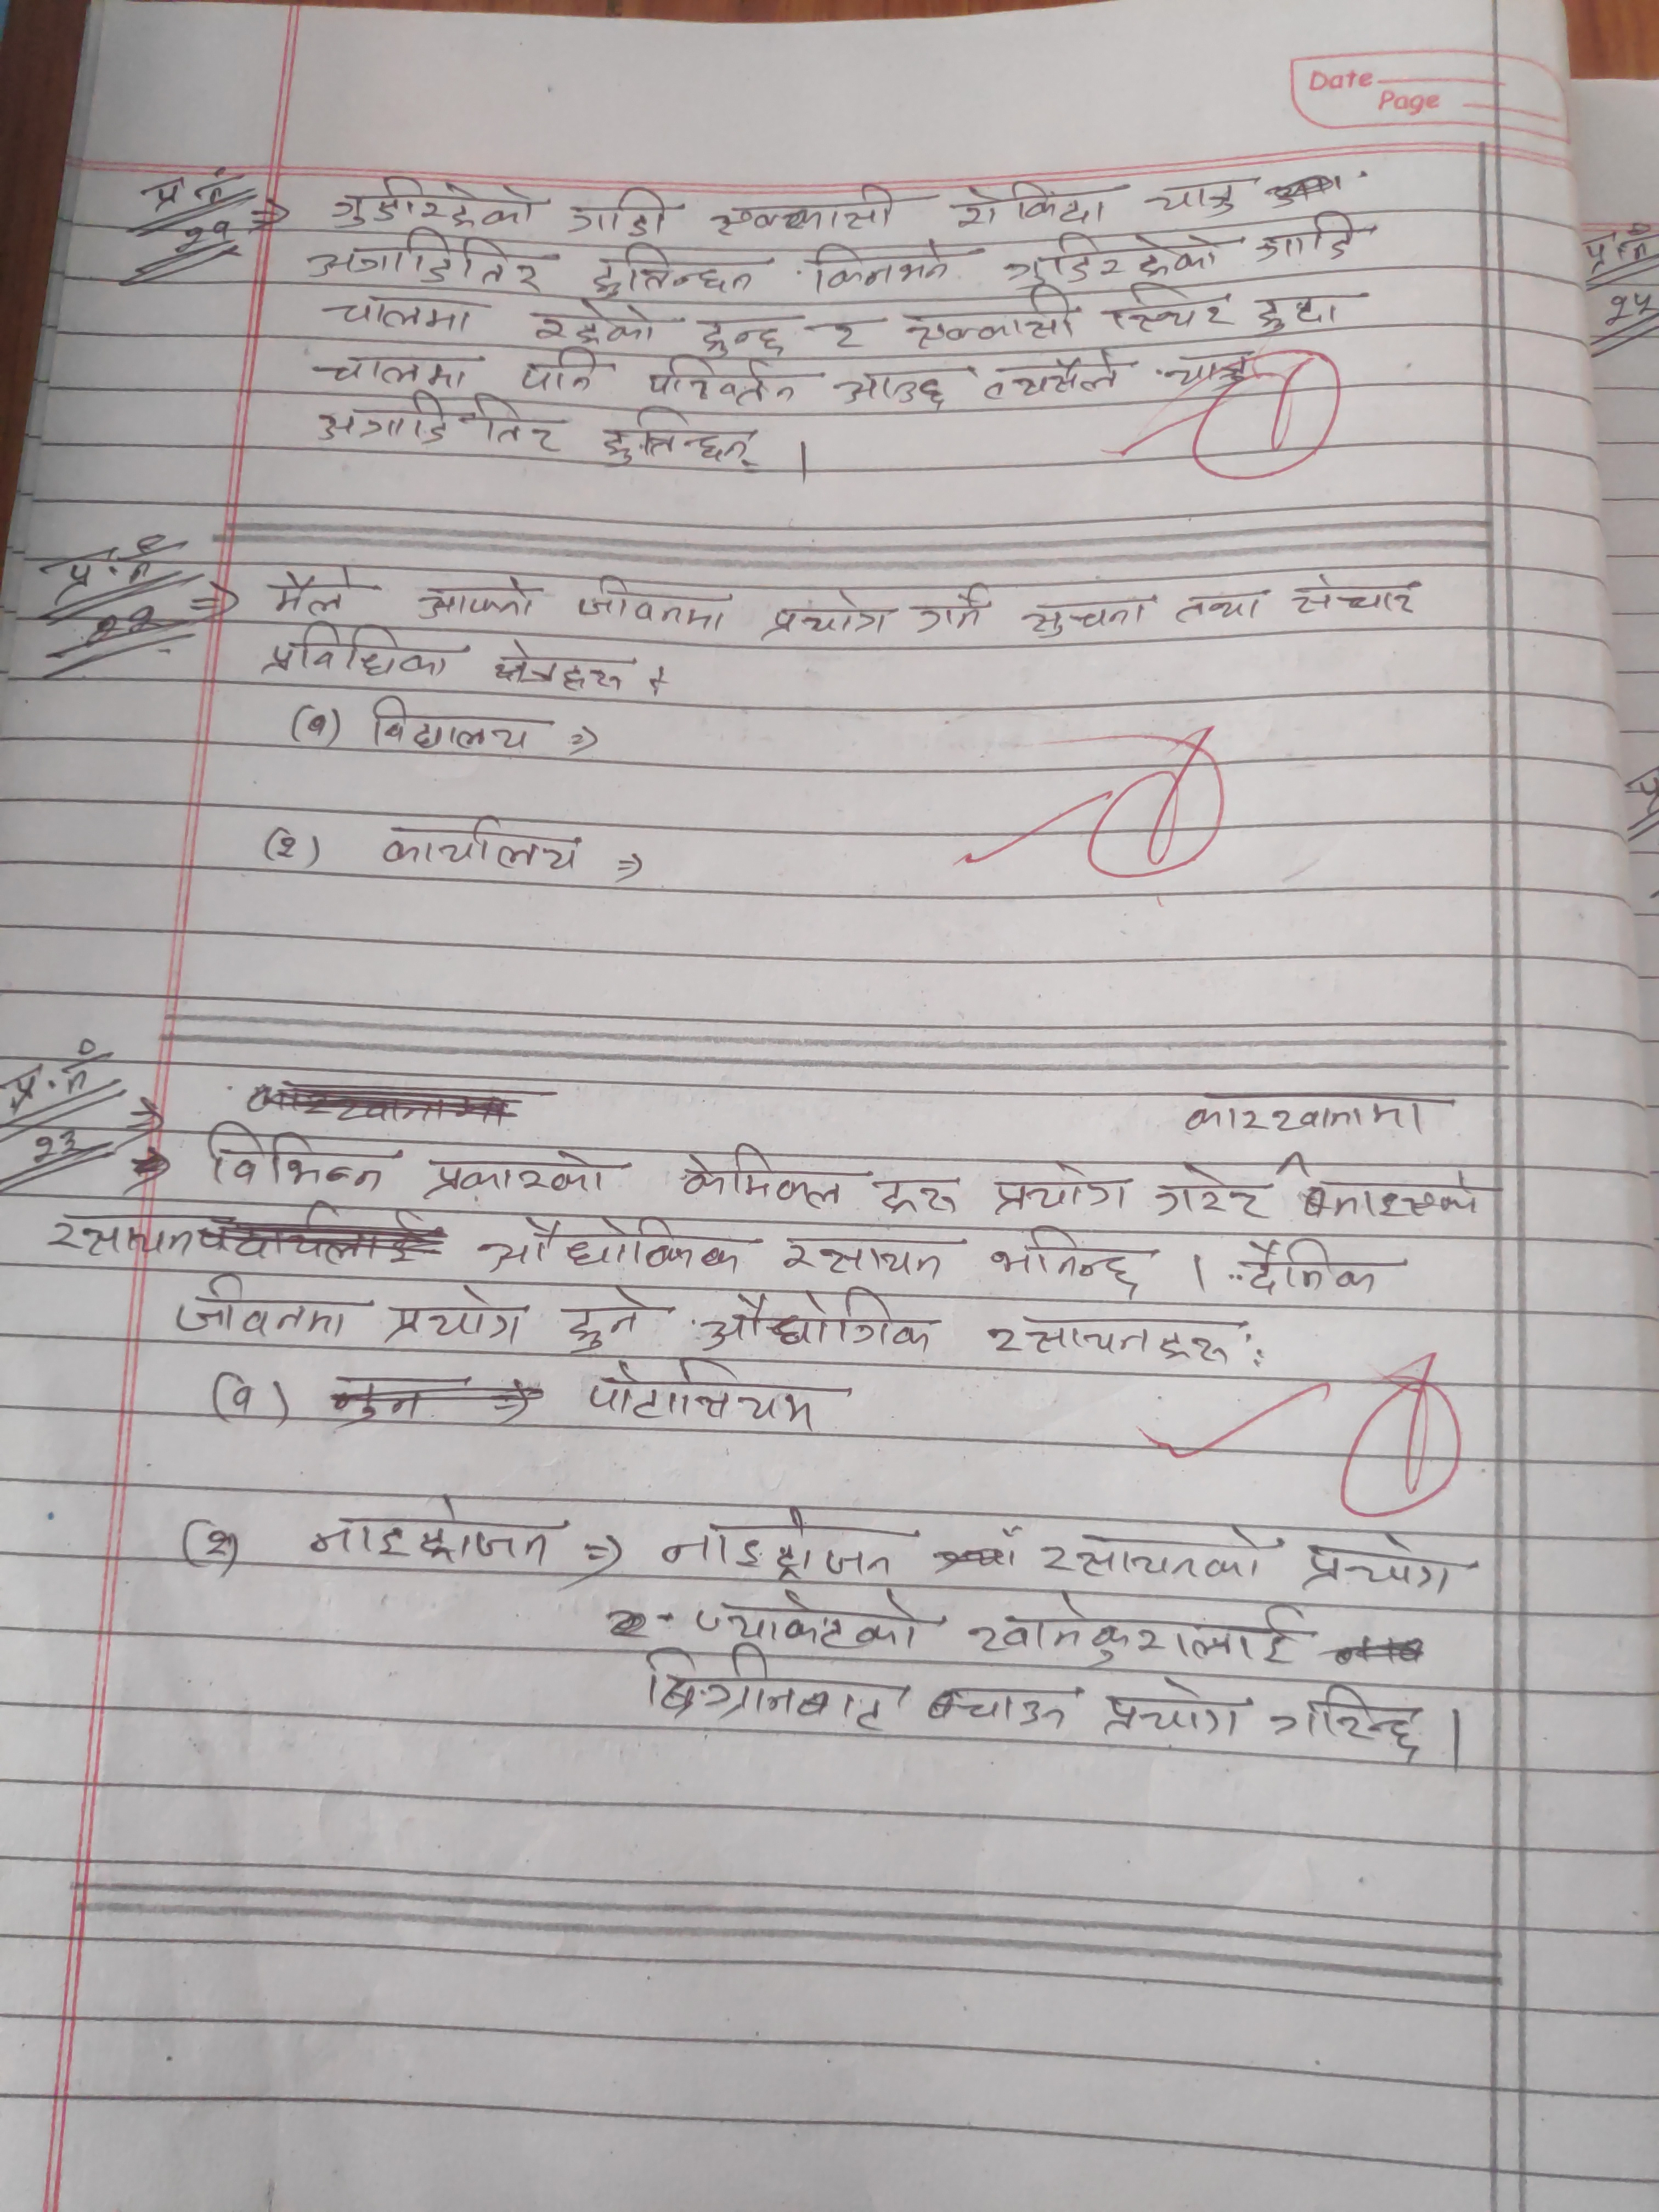text: (967, 1590, 1314, 1677), (622, 1642, 915, 1735), (657, 1503, 924, 1585), (307, 1498, 570, 1578), (586, 1359, 859, 1435), (472, 1214, 767, 1284), (303, 388, 566, 462), (688, 1289, 948, 1360), (193, 1113, 411, 1195), (687, 1587, 945, 1655), (978, 1308, 1243, 1369), (1040, 1519, 1284, 1585), (303, 232, 551, 296), (369, 810, 586, 883), (171, 1270, 366, 1345), (254, 620, 481, 685), (1178, 1089, 1466, 1139), (364, 691, 558, 765), (1004, 232, 1236, 293), (1265, 1683, 1431, 1766), (420, 1139, 636, 1202), (1290, 1162, 1490, 1228), (326, 174, 551, 232), (904, 284, 1084, 355), (1302, 1527, 1480, 1599), (676, 1143, 861, 1211), (993, 1223, 1162, 1294), (708, 181, 906, 240), (568, 568, 735, 637), (1230, 1238, 1415, 1301), (1094, 1677, 1253, 1747), (594, 416, 765, 479), (775, 1231, 955, 1289), (638, 354, 816, 411), (586, 244, 770, 298), (917, 1679, 1084, 1737), (985, 1158, 1140, 1219), (976, 348, 1133, 406), (488, 639, 638, 697), (314, 289, 490, 338), (945, 181, 1124, 228), (1143, 1160, 1274, 1224), (380, 1292, 528, 1348), (1100, 282, 1244, 336), (45, 1209, 199, 1259), (805, 239, 953, 291), (558, 1282, 660, 1357), (1251, 212, 1389, 268), (312, 345, 479, 390), (758, 590, 897, 644), (1286, 568, 1424, 622), (249, 563, 369, 624), (526, 301, 671, 352), (561, 181, 683, 239), (415, 571, 540, 624), (1014, 596, 1157, 641), (833, 369, 965, 416), (685, 312, 802, 364), (864, 1169, 971, 1223), (1248, 289, 1371, 334), (904, 582, 995, 643), (1143, 179, 1267, 221), (1157, 348, 1258, 397), (518, 348, 612, 395), (1175, 585, 1272, 629), (810, 312, 878, 357)
